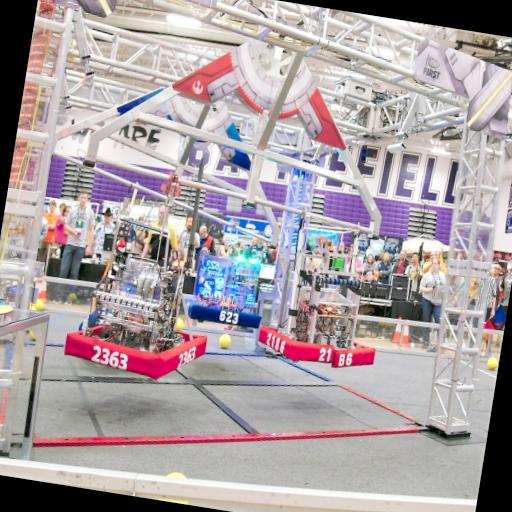robot: (60, 175, 230, 393), (253, 202, 396, 374), (179, 187, 279, 330)
